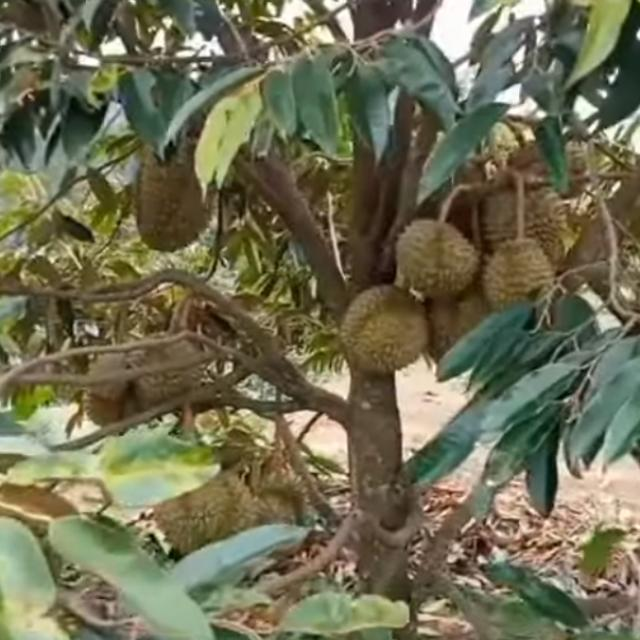mature: (131, 131, 224, 261), (343, 285, 436, 380), (481, 230, 565, 316), (396, 219, 480, 302)
